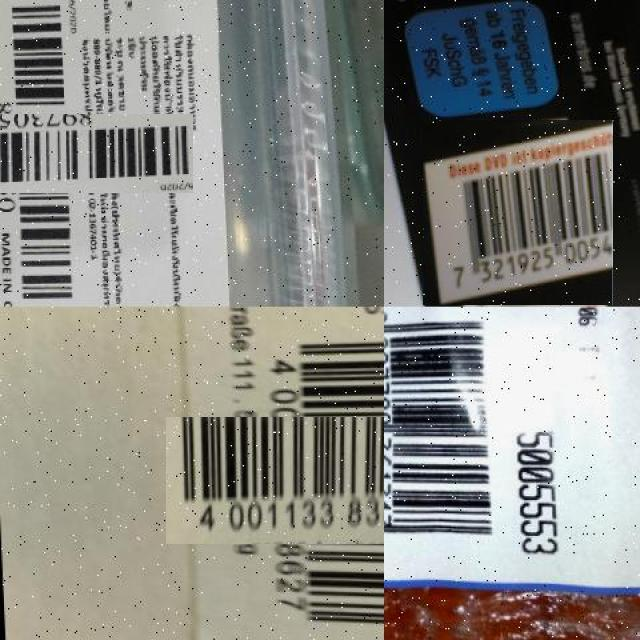Barcode: (211, 372, 429, 590), (424, 118, 612, 306), (384, 307, 509, 565), (0, 57, 135, 249)
